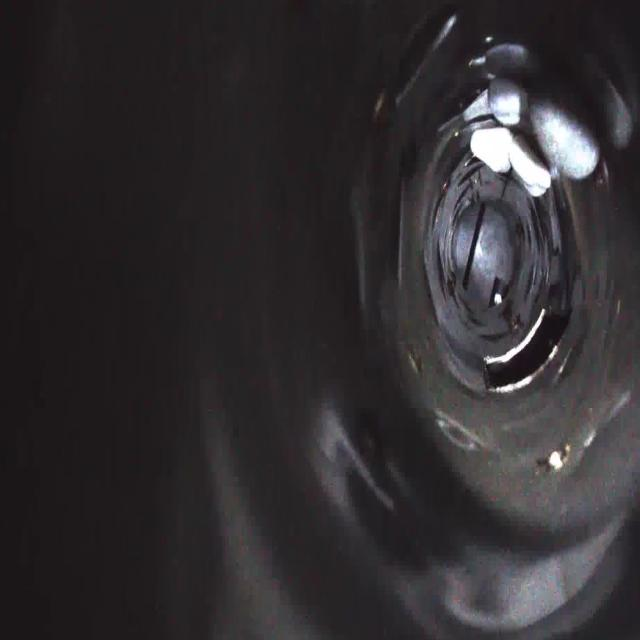crack: (444, 146, 488, 204), (425, 252, 455, 313), (520, 183, 546, 251), (418, 184, 446, 240), (526, 262, 558, 308), (473, 320, 513, 350), (456, 298, 483, 341), (492, 152, 518, 188)
hole: (480, 312, 574, 402)
